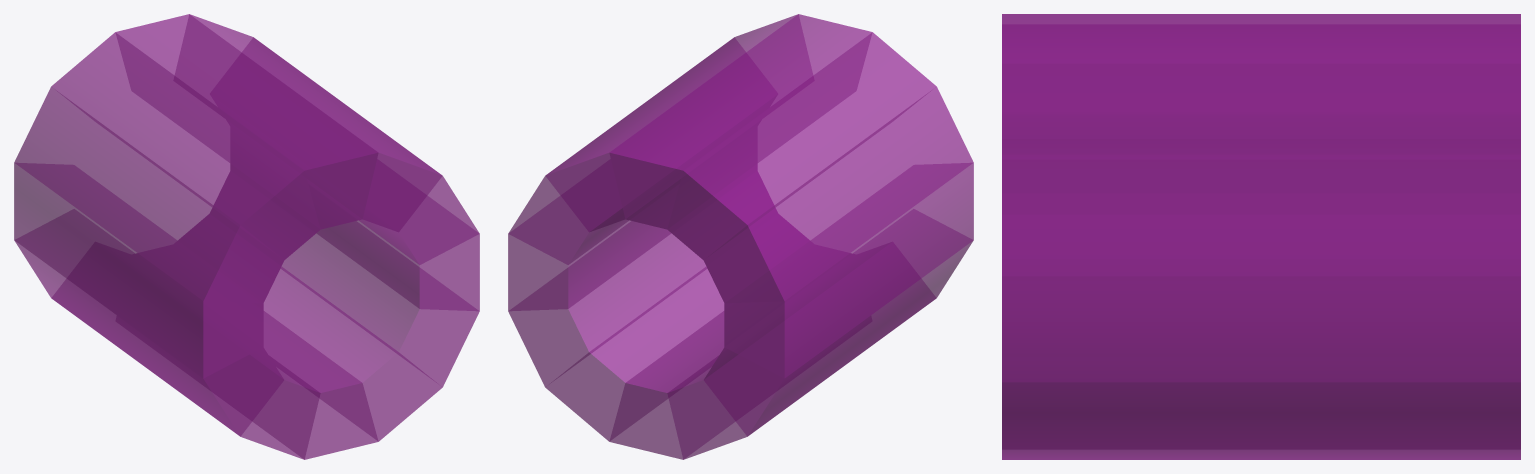
File: HCALBarrel.gltf
3 views of the same model, side by side, from view 1: azimuth 30°, elevation 25°; view 2: azimuth 150°, elevation 25°; view 3: azimuth 270°, elevation 25° (orthographic). The views are drawn at different scales.
Parts seen in each view (by area): view 1: HCalBarrel_envelope_6, stave_outer_7, stave_outer_8, stave_outer_6, stave_outer_9, stave_outer_1, stave_outer_2, stave_outer_5, stave_outer_10, stave_outer_0, stave_outer_3, stave_outer_11 (+1 smaller); view 2: HCalBarrel_envelope_6, stave_outer_7, stave_outer_8, stave_outer_6, stave_outer_9, stave_outer_1, stave_outer_2, stave_outer_5, stave_outer_10, stave_outer_0, stave_outer_3, stave_outer_11 (+1 smaller); view 3: HCalBarrel_envelope_6, stave_outer_11, stave_outer_0, stave_outer_10, stave_outer_1, stave_outer_9, stave_outer_2.
Boxes of the visible parts, x1,y1,x2,y2 form: HCalBarrel_envelope_6: (14, 14, 479, 459); stave_outer_7: (14, 87, 283, 302); stave_outer_8: (52, 33, 319, 259); stave_outer_6: (14, 163, 263, 377); stave_outer_9: (116, 14, 377, 228); stave_outer_1: (282, 233, 478, 386); stave_outer_2: (264, 267, 441, 440); stave_outer_5: (15, 241, 283, 435); stave_outer_10: (190, 15, 441, 231); stave_outer_0: (317, 221, 479, 310); stave_outer_3: (264, 311, 377, 459); stave_outer_11: (359, 176, 478, 264); HCalBarrel_envelope_6: (508, 14, 973, 459); stave_outer_7: (704, 87, 973, 302); stave_outer_8: (668, 33, 935, 259); stave_outer_6: (724, 163, 973, 377); stave_outer_9: (610, 14, 871, 228); stave_outer_1: (509, 233, 705, 386); stave_outer_2: (546, 267, 723, 440); stave_outer_5: (704, 241, 972, 435); stave_outer_10: (546, 15, 797, 231); stave_outer_0: (508, 221, 670, 310); stave_outer_3: (610, 311, 723, 459); stave_outer_11: (509, 176, 628, 264); HCalBarrel_envelope_6: (1002, 14, 1520, 459); stave_outer_11: (1002, 160, 1520, 275); stave_outer_0: (1002, 276, 1520, 381); stave_outer_10: (1002, 64, 1520, 159); stave_outer_1: (1002, 382, 1520, 449); stave_outer_9: (1002, 14, 1520, 63); stave_outer_2: (1002, 449, 1520, 459).
Bounding box in the file's own units: 498 × 498 × 590.
